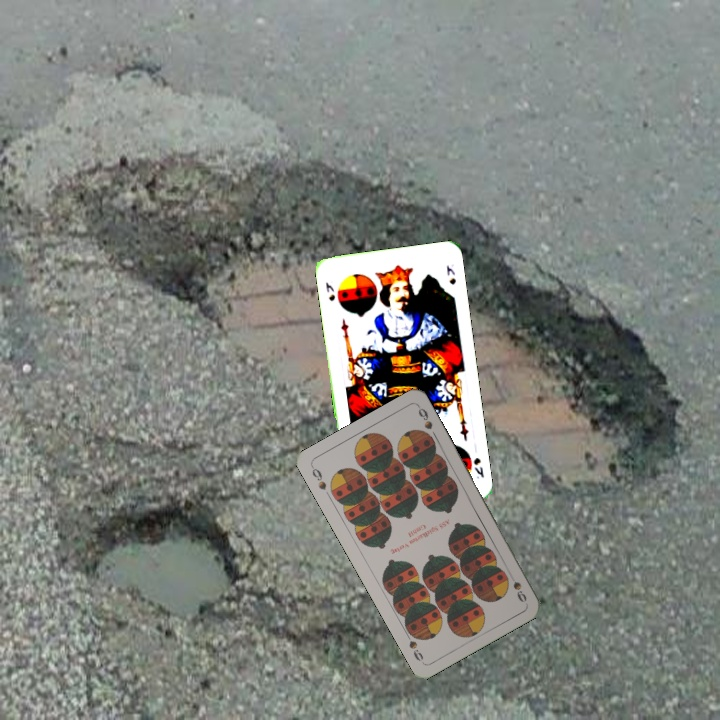S9: (504, 568, 529, 605), (307, 462, 329, 493)
SK: (470, 454, 486, 481), (321, 278, 338, 303)
